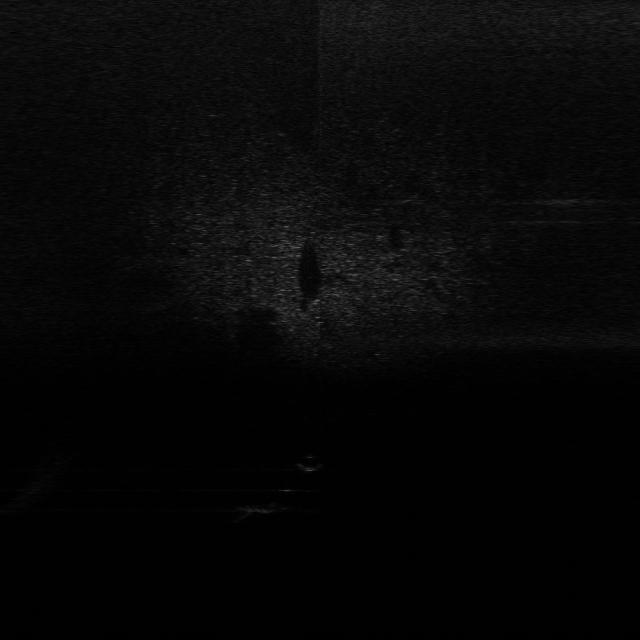ball: (293, 453, 328, 474)
square cage: (244, 485, 298, 519)
